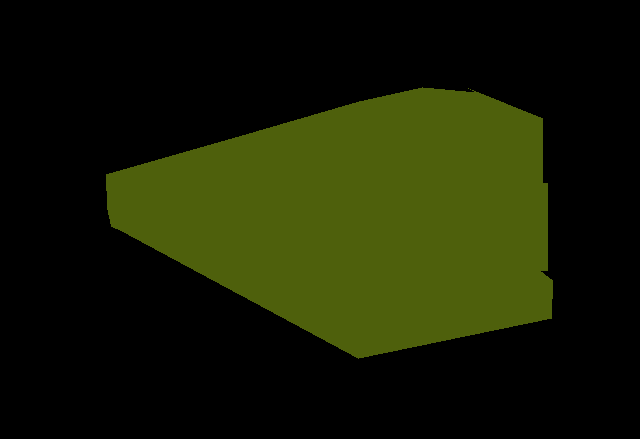Train: (106, 87, 552, 358)
